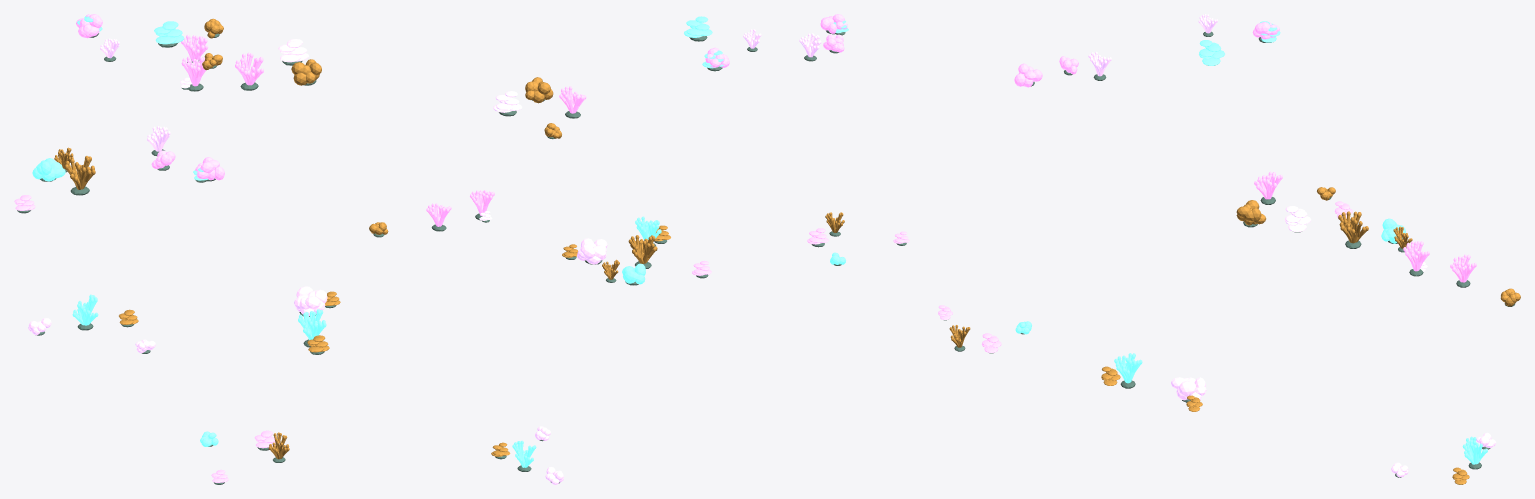
The model's file is coral_04.glb.
3 views of the same model, side by side, from view 1: azimuth 30°, elevation 25°; view 2: azimuth 150°, elevation 25°; view 3: azimuth 270°, elevation 25° (orthographic). The views are drawn at different scales.
Parts seen in each view (by area): view 1: coral_04; view 2: coral_04; view 3: coral_04.
Boxes of the visible parts, bbox=[...] form: coral_04: bbox=[14, 14, 340, 484]; coral_04: bbox=[369, 14, 909, 484]; coral_04: bbox=[938, 14, 1520, 484].
Bounding box in the file's own units: 45.36 × 59.23 × 78.3.
